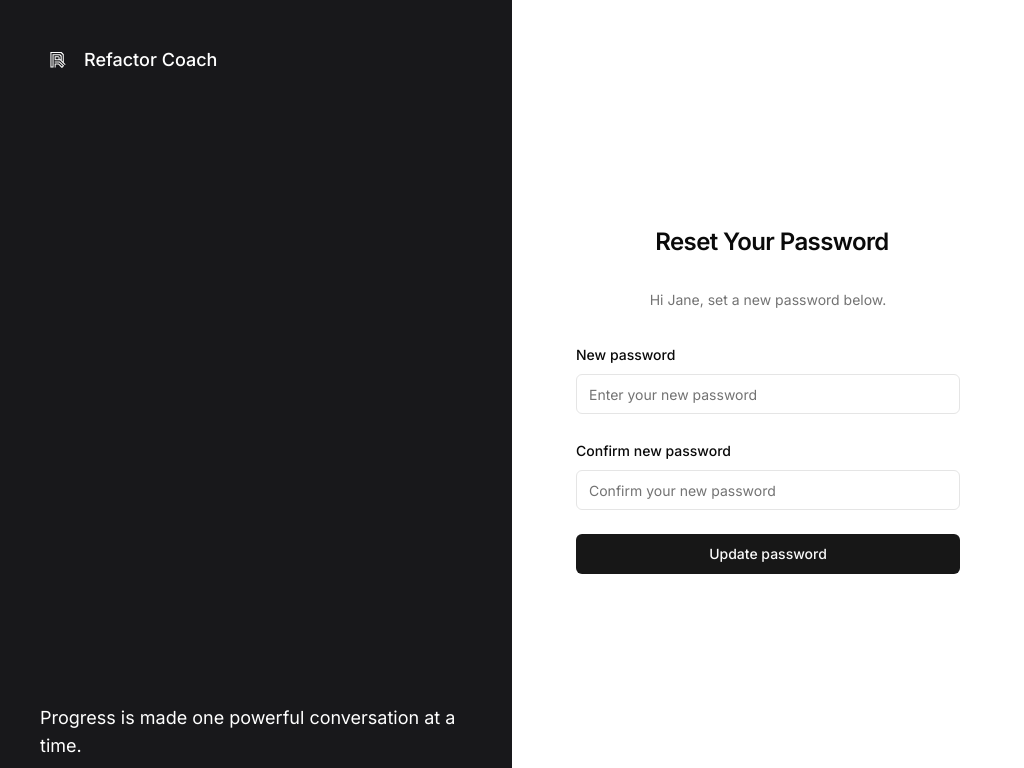
Test case: ResetPasswordPage — complete step › shows the success card after a successful complete (logged-out user)
The image size is (1024, 768).
Expected: the text "Hi Jane, set a new password below." is shown, x1=650 y1=291 x2=886 y2=308
Type "longenoughpassword" into the password field labelled "New password".
click(768, 394); type("longenoughpassword")  # box x1=576 y1=374 x2=960 y2=414
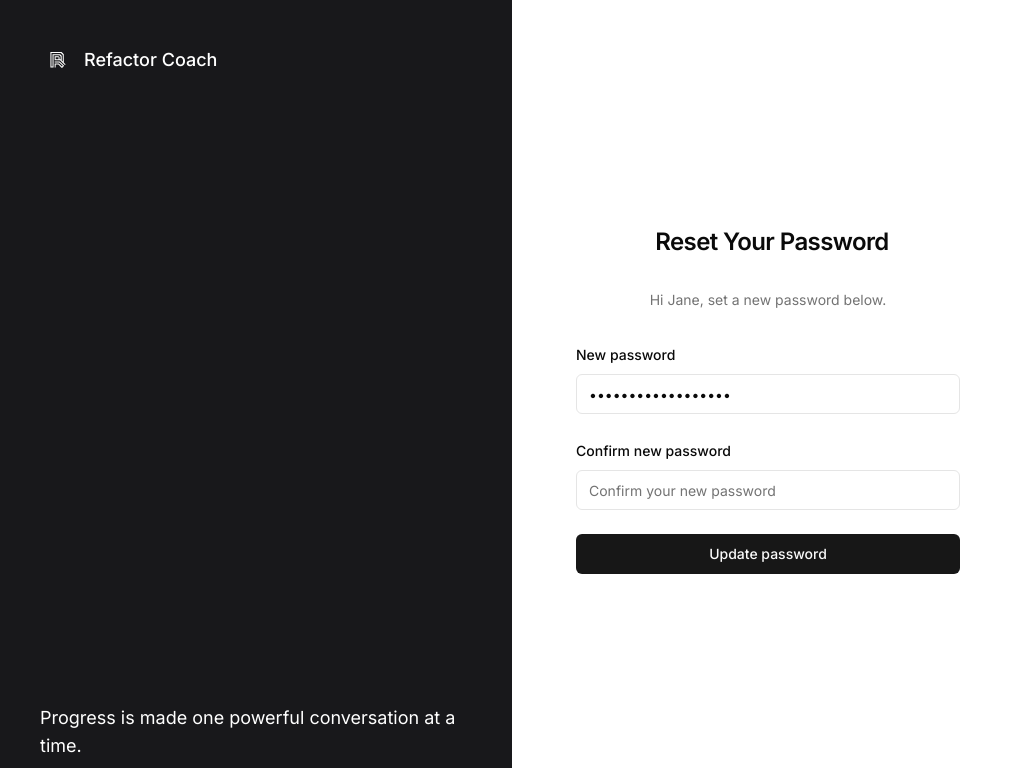
Type "longenoughpassword" into the password field labelled "Confirm new password".
click(768, 490); type("longenoughpassword")  # box x1=576 y1=470 x2=960 y2=510
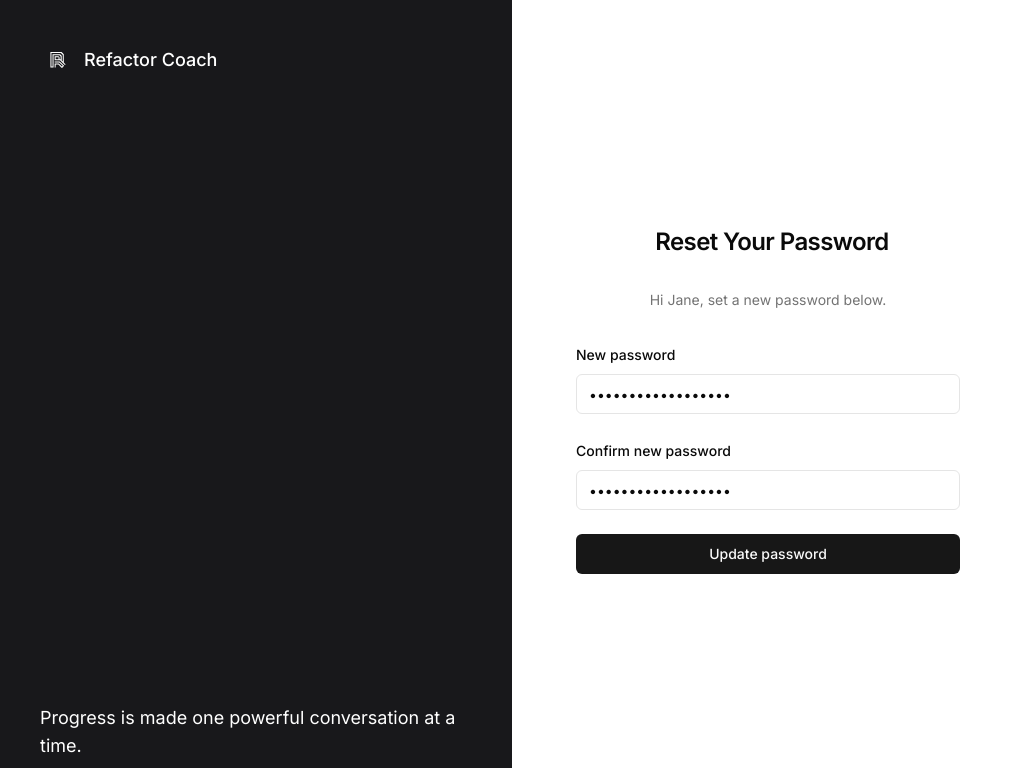
Click the button "Update password".
click(768, 554)  # box x1=576 y1=534 x2=960 y2=574
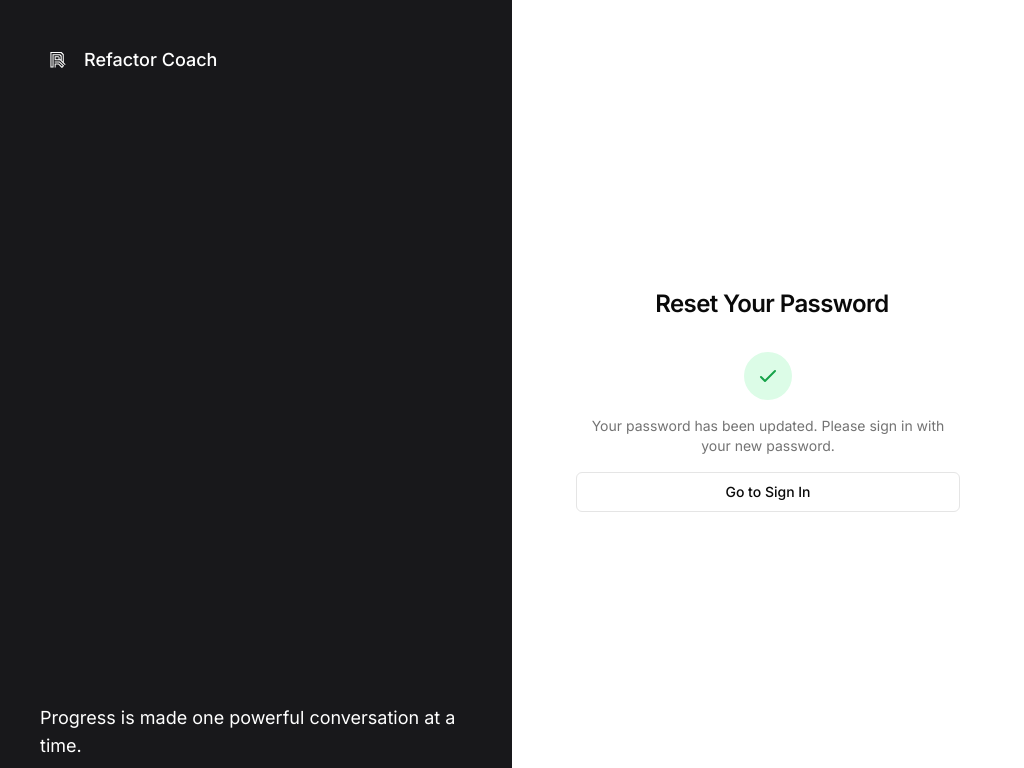
Expected: the text "Your password has been updated. Please sign in with your new password" is shown, x1=592 y1=417 x2=944 y2=454
Expected: the link "Go to Sign In" is shown, x1=576 y1=472 x2=960 y2=512
